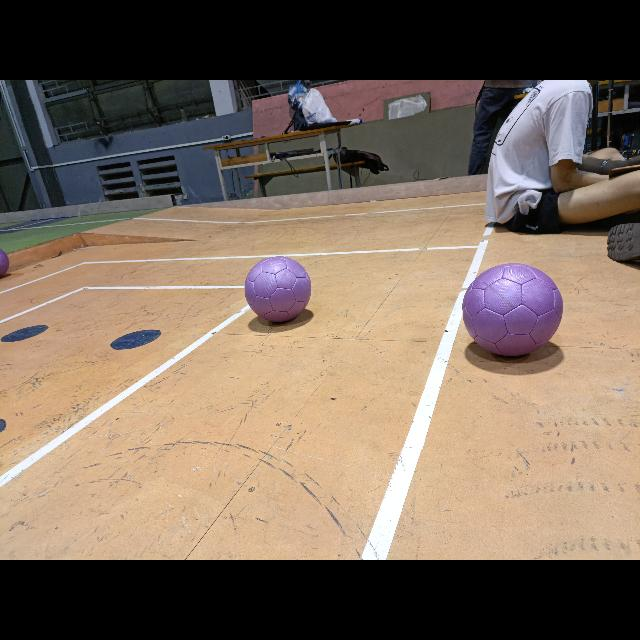P: (463, 262, 563, 356), (245, 256, 311, 322), (0, 250, 8, 276)
